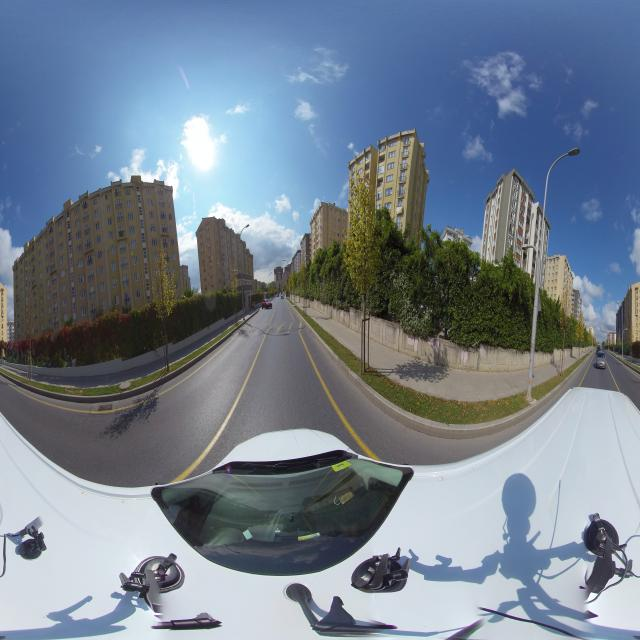SignStore: (346, 175, 384, 370), (149, 252, 177, 370), (231, 263, 239, 323), (300, 256, 307, 316)
